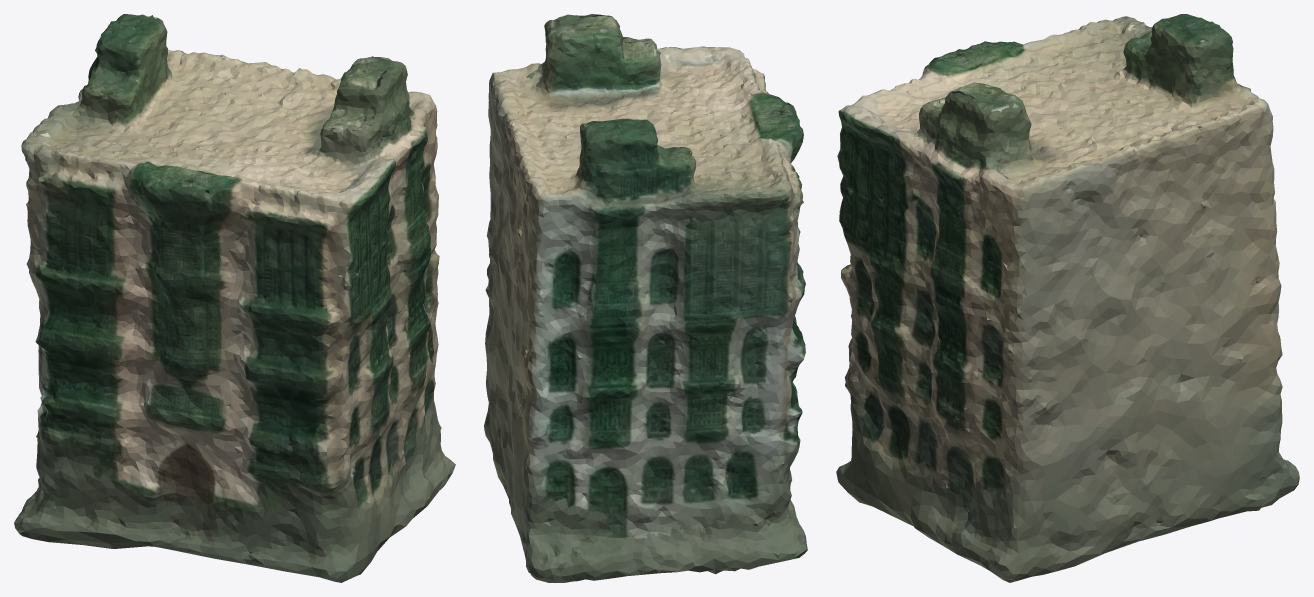
File: benchmark-model-polycam.glb
3 views of the same model, side by side, from view 1: azimuth 30°, elevation 25°; view 2: azimuth 150°, elevation 25°; view 3: azimuth 270°, elevation 25° (orthographic). The views are drawn at different scales.
Bounding box in the file's own units: 0.4293 × 0.4899 × 0.4457.
Materials: 1 (1 with a texture image).
